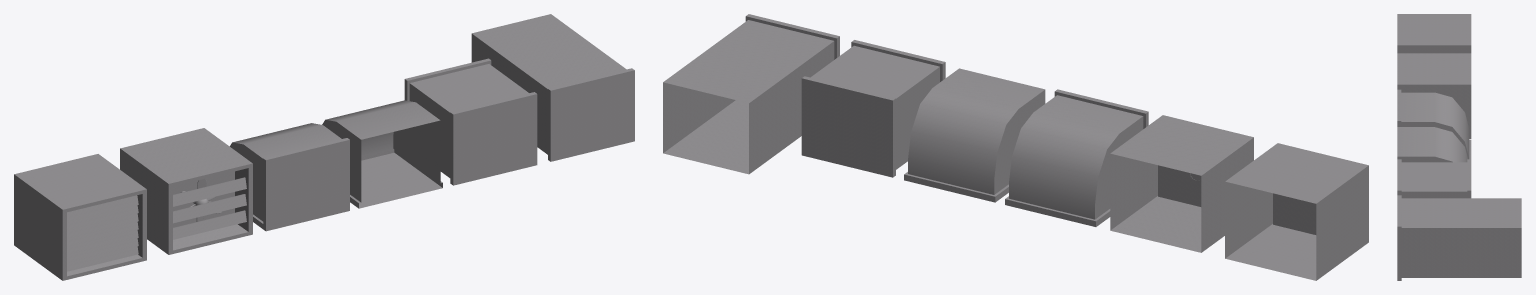
The model's file is Vent.fbx.
3 views of the same model, side by side, from view 1: azimuth 30°, elevation 25°; view 2: azimuth 150°, elevation 25°; view 3: azimuth 270°, elevation 25° (orthographic). The views are drawn at different scales.
Parts seen in each view (by area): view 1: VentConnect2, VentEnd1, Body, VentConnect1, VentCorner1, VentCorner2; view 2: VentConnect2, VentEnd1, Body, VentConnect1, VentCorner1, VentCorner2; view 3: VentConnect2, Body, VentEnd1, VentConnect1, VentCorner1, VentCorner2.
Boxes of the visible parts, x1,y1,x2,y2 form: VentConnect2: (471,14,634,161); VentEnd1: (14,154,146,280); Body: (120,128,252,254); VentConnect1: (404,58,537,185); VentCorner1: (230,123,349,231); VentCorner2: (322,100,442,208); VentConnect2: (663,14,839,174); VentEnd1: (1225,143,1368,280); Body: (1110,115,1253,252); VentConnect1: (801,40,945,177); VentCorner1: (1005,89,1148,226); VentCorner2: (904,68,1045,202); VentConnect2: (1397,195,1521,280); Body: (1397,53,1471,138); VentEnd1: (1397,14,1471,53); VentConnect1: (1397,159,1471,198); VentCorner1: (1397,89,1471,159); VentCorner2: (1397,127,1467,162).
Size of the model in its own units: 979 by 116 by 242.
Materials: 1 (1 with a texture image).
